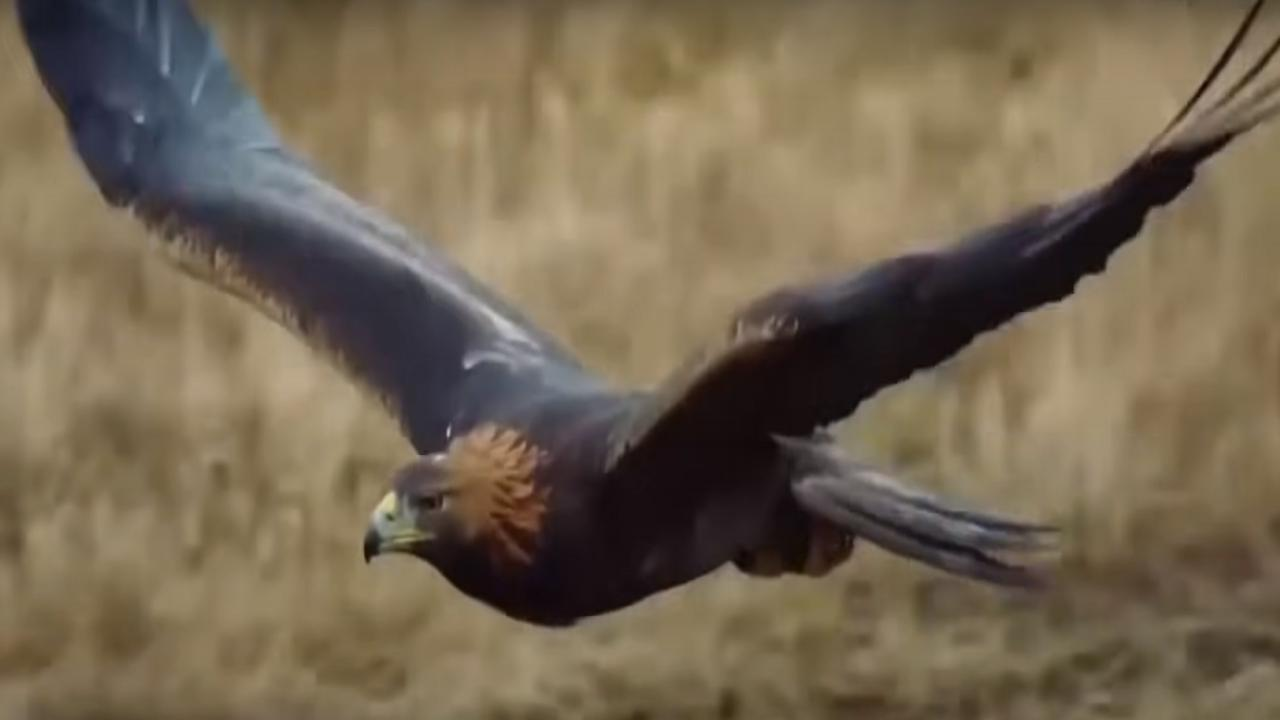Bird: (5, 0, 1280, 637)
